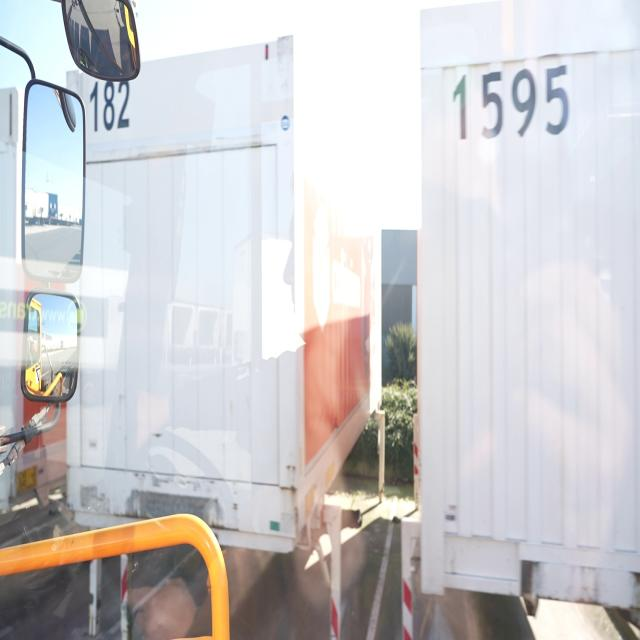Code: (449, 62, 578, 142)
